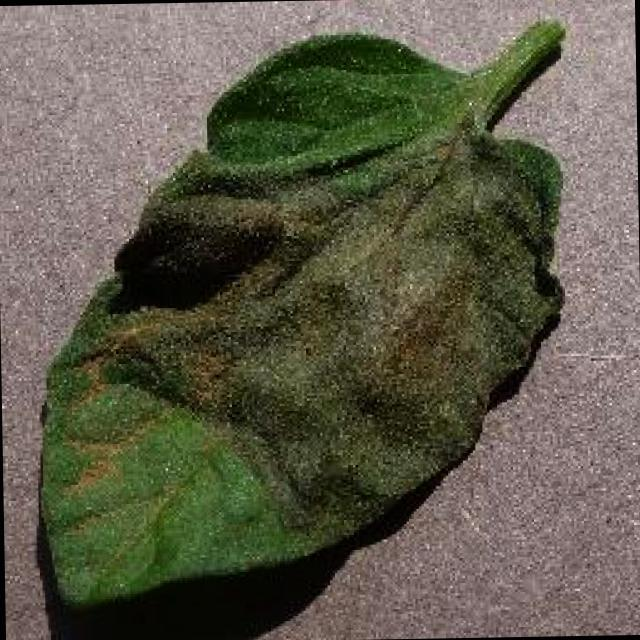Tomato late blight leaf: (29, 31, 574, 610)
